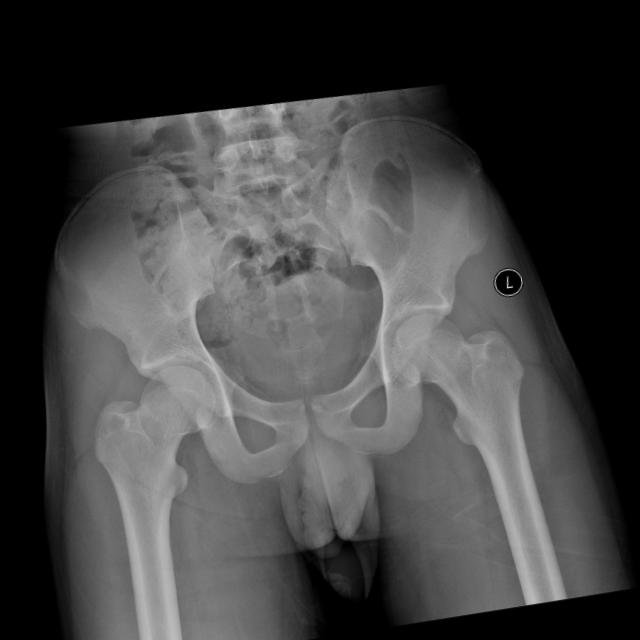normal-left: (392, 313, 568, 605)
normal-right: (95, 364, 217, 640)
